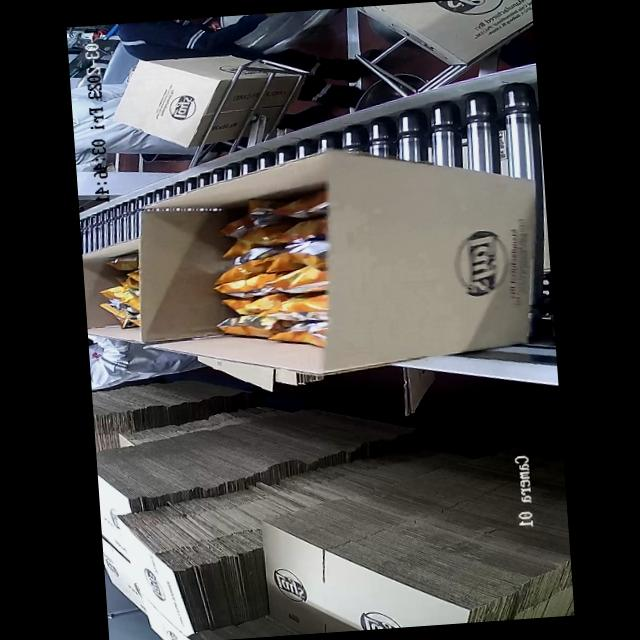cheese: (214, 205, 331, 342), (95, 248, 142, 334)
